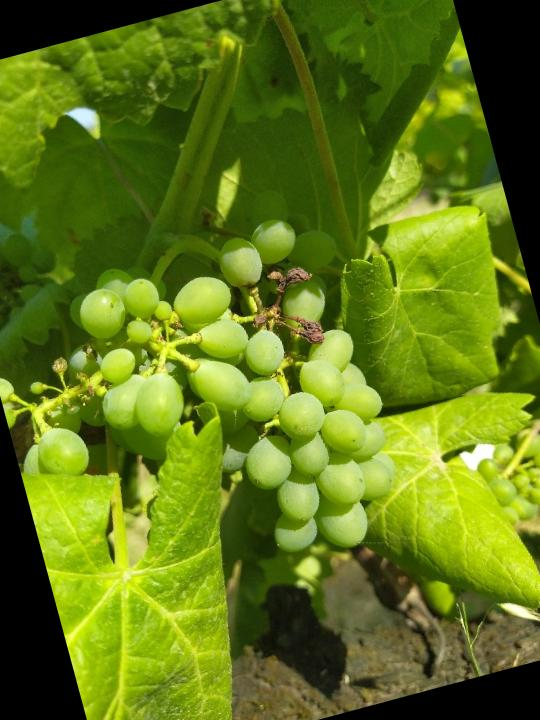grape: (0, 172, 421, 632)
